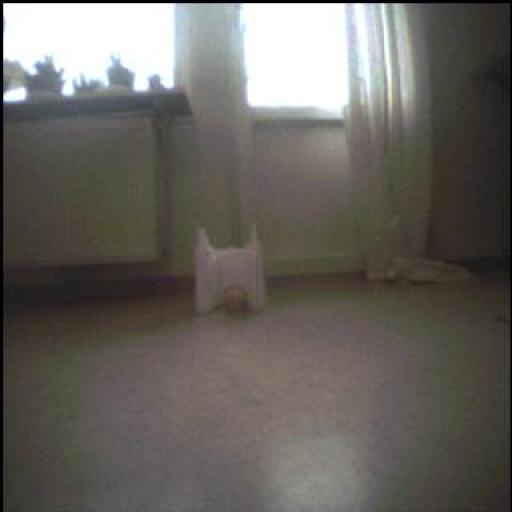Basket: (220, 283, 252, 317)
